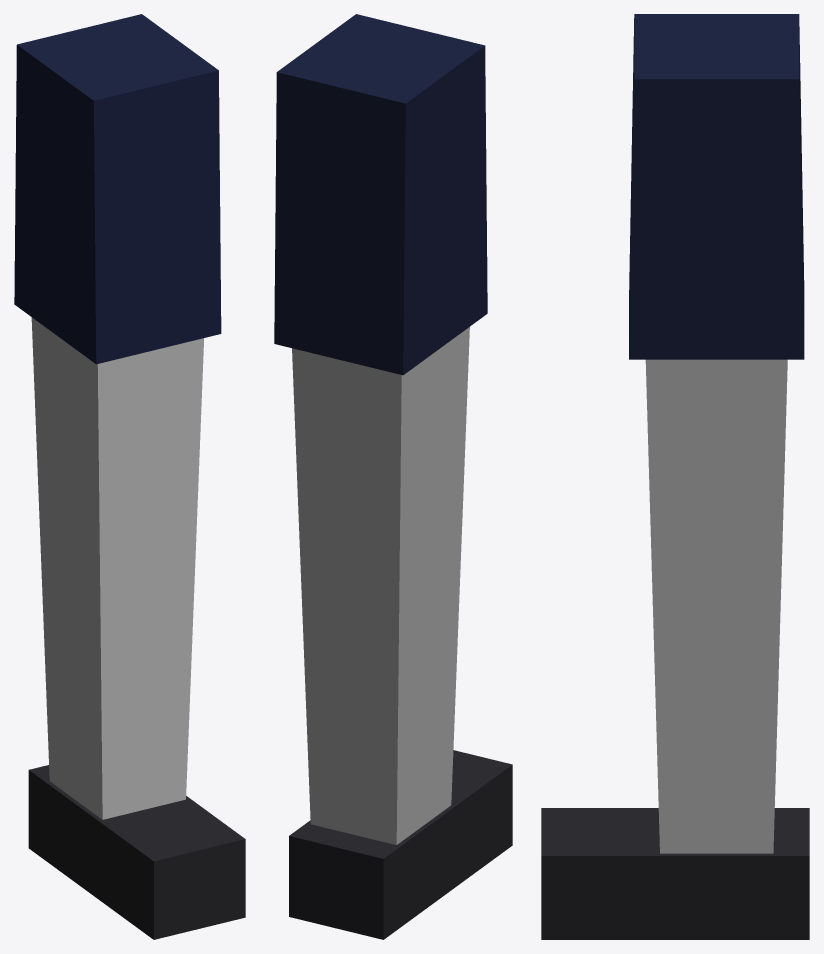
Rendered from leg_k12.glb.
3 views of the same model, side by side, from view 1: azimuth 30°, elevation 25°; view 2: azimuth 150°, elevation 25°; view 3: azimuth 270°, elevation 25° (orthographic). The views are drawn at different scales.
Parts seen in each view (by area): view 1: leg_kit; view 2: leg_kit; view 3: leg_kit.
Part boxes in pixels (left/top/right/bottom): leg_kit: left=14, top=14, right=245, bottom=939; leg_kit: left=274, top=14, right=512, bottom=939; leg_kit: left=541, top=14, right=809, bottom=939.
Size of the model in its own units: 0.15 by 0.93 by 0.26.
